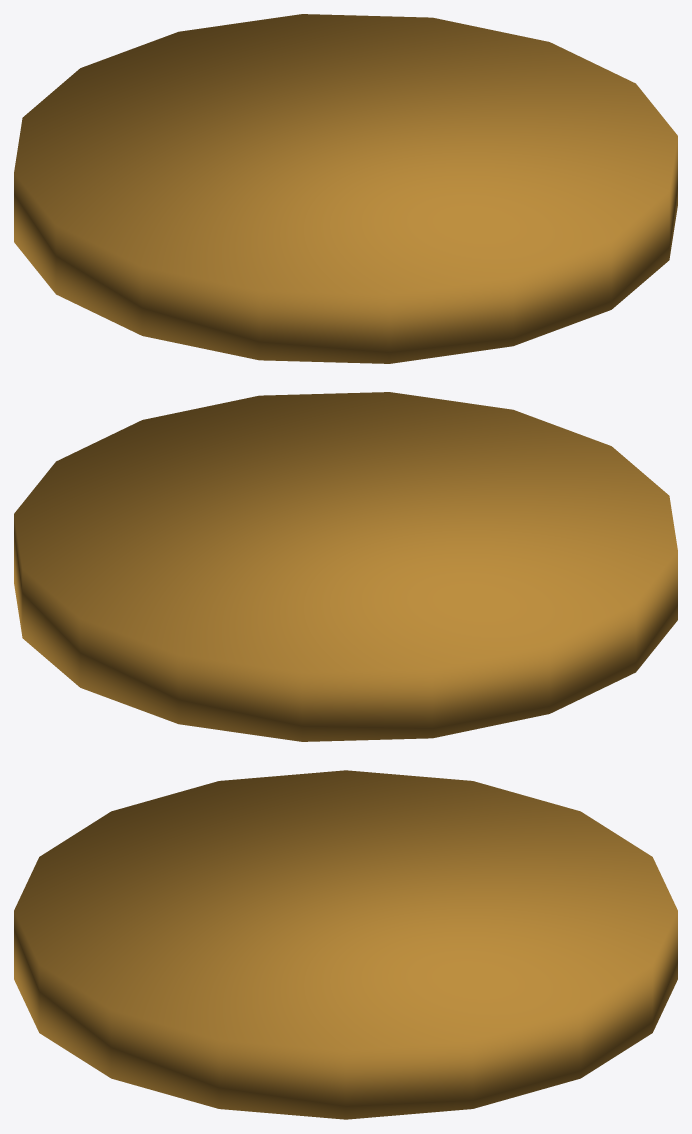
The model's file is defender_medal.glb.
The picture shows the model from 3 angles, top to bottom: view 1: azimuth 30°, elevation 25°; view 2: azimuth 150°, elevation 25°; view 3: azimuth 270°, elevation 25°; orthographic projection.
Visible parts, largest first — view 1: defender_medal_v0; view 2: defender_medal_v0; view 3: defender_medal_v0.
Part boxes in pixels (box(x1,y1,x2,y2)): defender_medal_v0: box(14, 14, 677, 363); defender_medal_v0: box(14, 392, 677, 741); defender_medal_v0: box(14, 770, 677, 1119).
Bounding box in the file's own units: 0.14 × 0.016 × 0.14.
